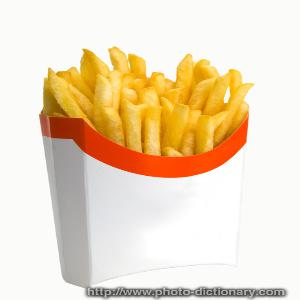fries_350cal: (37, 41, 261, 188)
